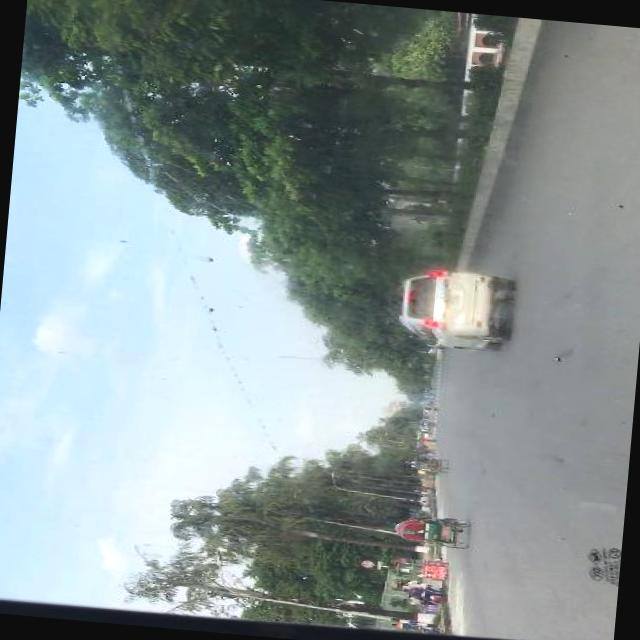car: (392, 260, 516, 362)
motorcycle: (388, 509, 474, 552), (406, 453, 452, 475)
